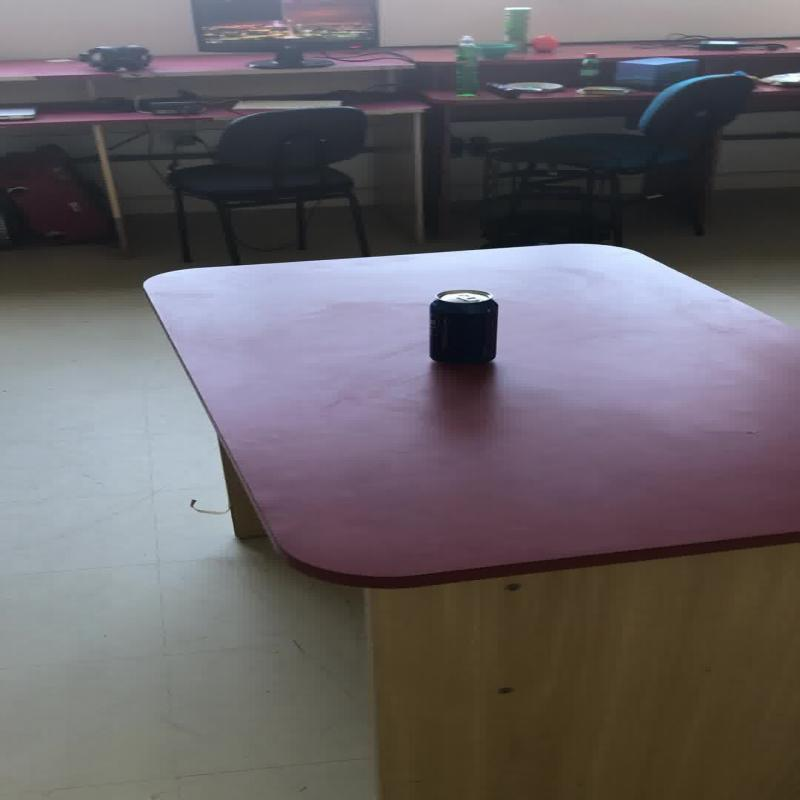tonic: (426, 288, 497, 363), (453, 34, 479, 96), (503, 5, 530, 52), (577, 52, 599, 86)
